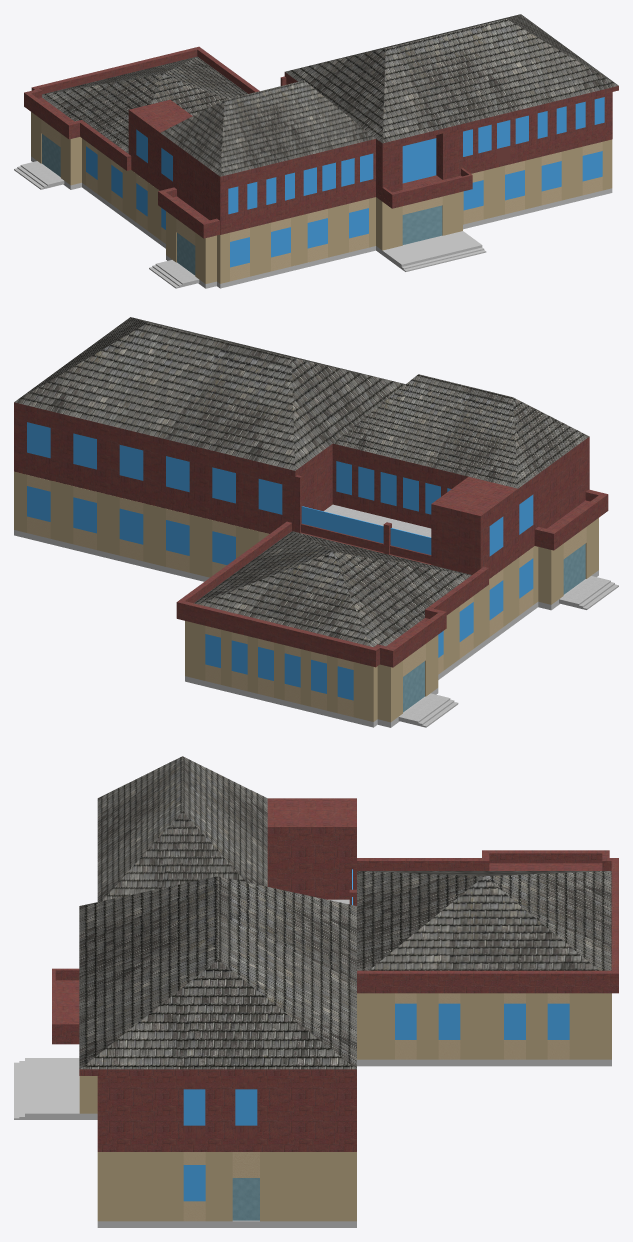
Rendered from Residential_Building.glb.
3 renders of one model, top to bottom at view 1: azimuth 30°, elevation 25°; view 2: azimuth 150°, elevation 25°; view 3: azimuth 270°, elevation 25°, orthographic. The views are drawn at different scales.
Parts seen in each view (by area): view 1: Floor2, Roof, Floor1; view 2: Floor2, Roof, Floor1; view 3: Roof, Floor2, Floor1.
Part boxes in pixels (x1,y1,x2,y2): Floor2: [24, 46, 612, 238]; Roof: [128, 14, 618, 181]; Floor1: [14, 112, 612, 288]; Floor2: [14, 408, 608, 667]; Roof: [14, 317, 589, 521]; Floor1: [14, 471, 618, 727]; Roof: [79, 756, 356, 1075]; Floor2: [52, 833, 618, 1151]; Floor1: [14, 993, 611, 1227].
Size of the model in its own units: 38.34 by 13.6 by 33.23.
7 materials, 7 textured.
